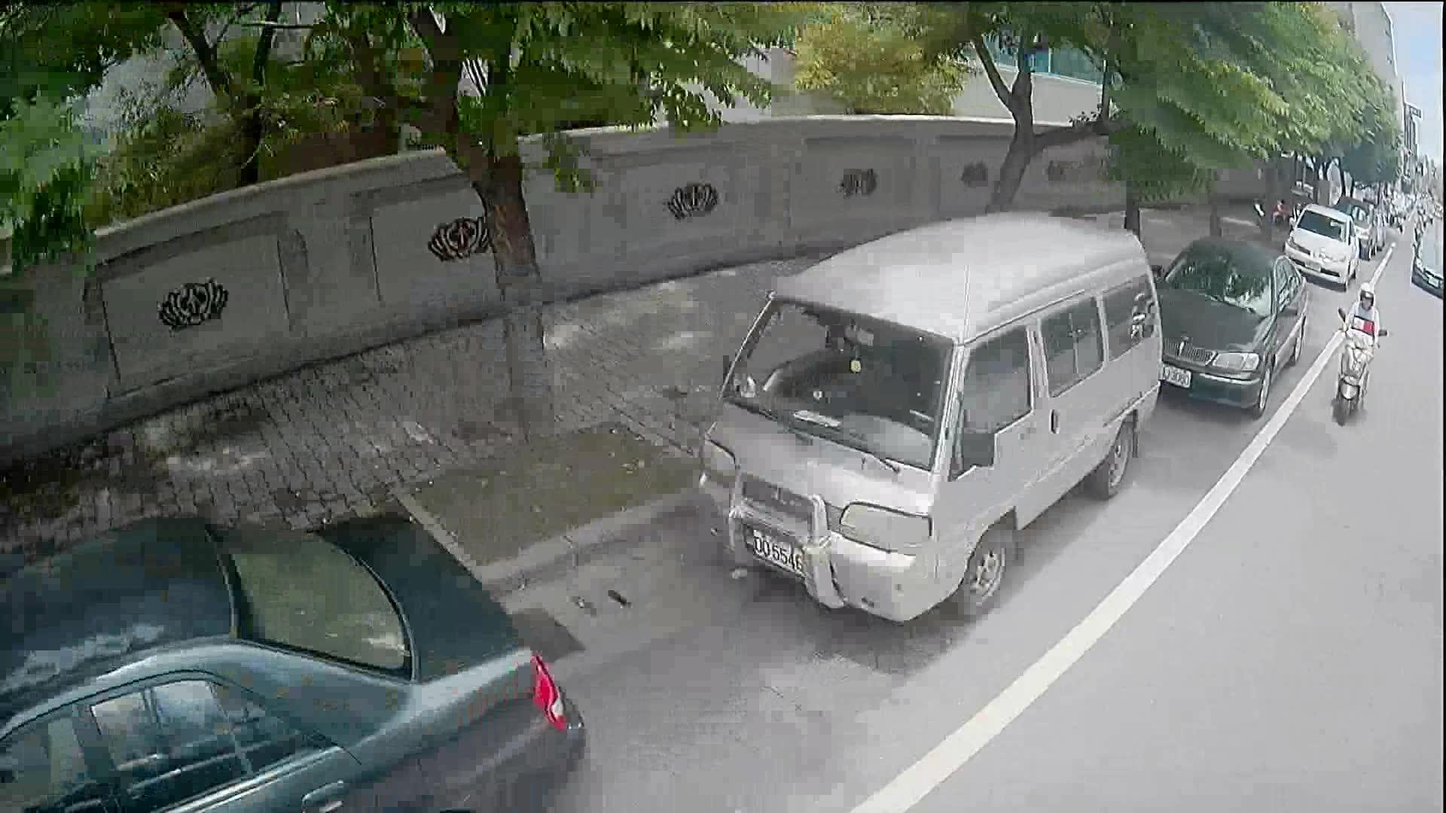person: (1338, 288, 1382, 348)
